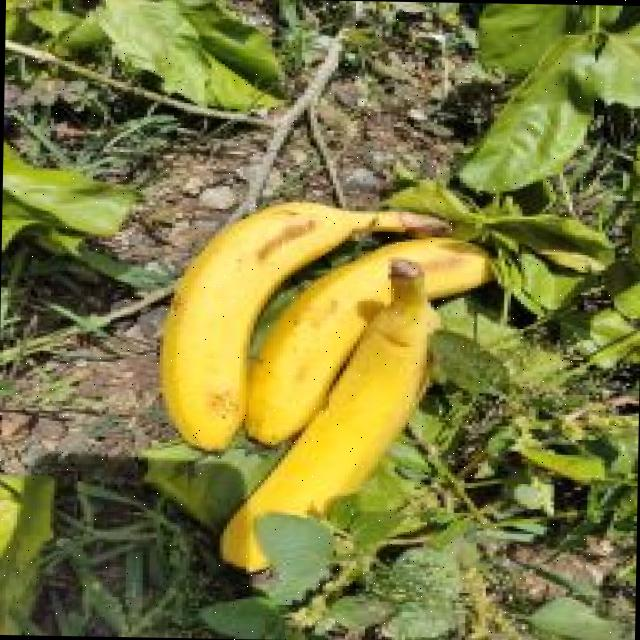banana: (224, 262, 437, 571), (161, 202, 376, 450), (246, 237, 489, 444)
